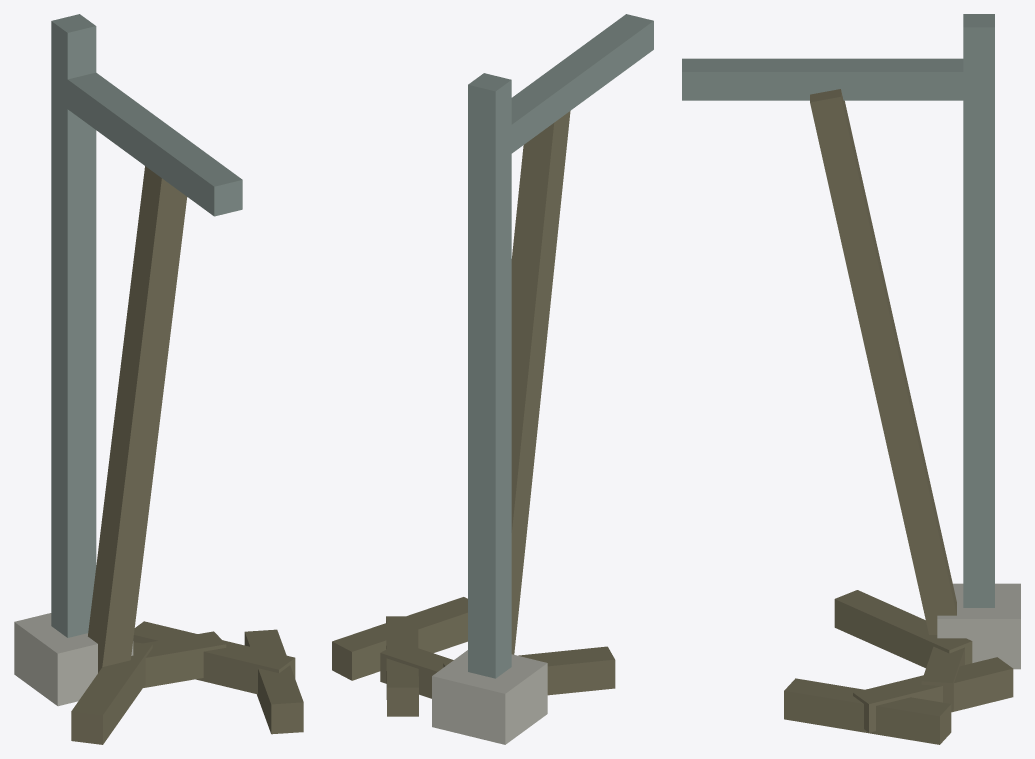
Rendered from SM_CatenariaCaida_v4_Enredado_LOD1.fbx.
The picture shows the model from 3 angles, left to right: view 1: azimuth 30°, elevation 25°; view 2: azimuth 150°, elevation 25°; view 3: azimuth 270°, elevation 25°; orthographic projection. The views are drawn at different scales.
Visible parts, largest first — view 1: SM_aqui_paso_algo_v14_LOD1; view 2: SM_aqui_paso_algo_v14_LOD1; view 3: SM_aqui_paso_algo_v14_LOD1.
Boxes of the visible parts, box(x1,y1,x2,y2) form: SM_aqui_paso_algo_v14_LOD1: box(14, 14, 303, 744); SM_aqui_paso_algo_v14_LOD1: box(332, 14, 653, 744); SM_aqui_paso_algo_v14_LOD1: box(682, 14, 1020, 744).
Bounding box in the file's own units: 2.97 × 7.59 × 3.65.
